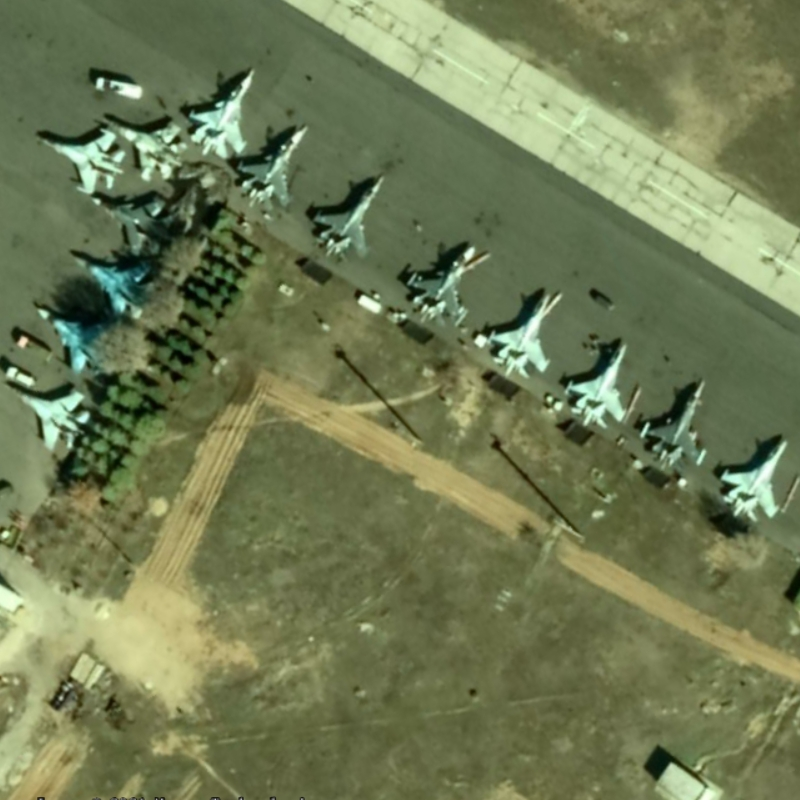A1: (713, 433, 798, 525), (307, 168, 389, 263), (1, 372, 92, 455), (28, 124, 128, 198), (94, 110, 191, 186), (636, 373, 711, 469), (481, 290, 556, 382), (561, 338, 633, 431)
A19: (234, 120, 313, 214), (28, 299, 120, 377), (187, 64, 258, 163), (401, 239, 481, 324), (66, 250, 160, 322), (88, 192, 183, 259)
